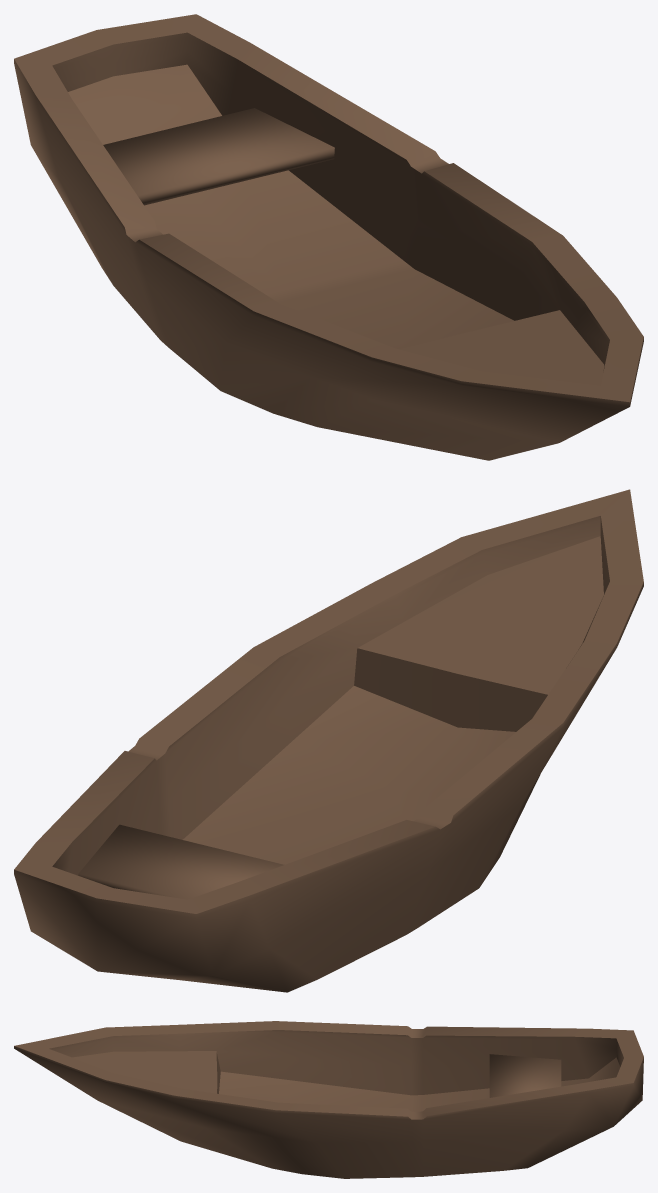
Rendered from SM_SmallBoat.fbx.
The picture shows the model from 3 angles, top to bottom: view 1: azimuth 30°, elevation 25°; view 2: azimuth 150°, elevation 25°; view 3: azimuth 270°, elevation 25°; orthographic projection. The views are drawn at different scales.
Parts seen in each view (by area): view 1: SM_Boat; view 2: SM_Boat; view 3: SM_Boat.
Part boxes in pixels (box(x1,y1,x2,y2)): SM_Boat: box(14, 14, 643, 460); SM_Boat: box(14, 489, 643, 992); SM_Boat: box(14, 1021, 643, 1178).
Bounding box in the file's own units: 138 × 405 × 70.85.
